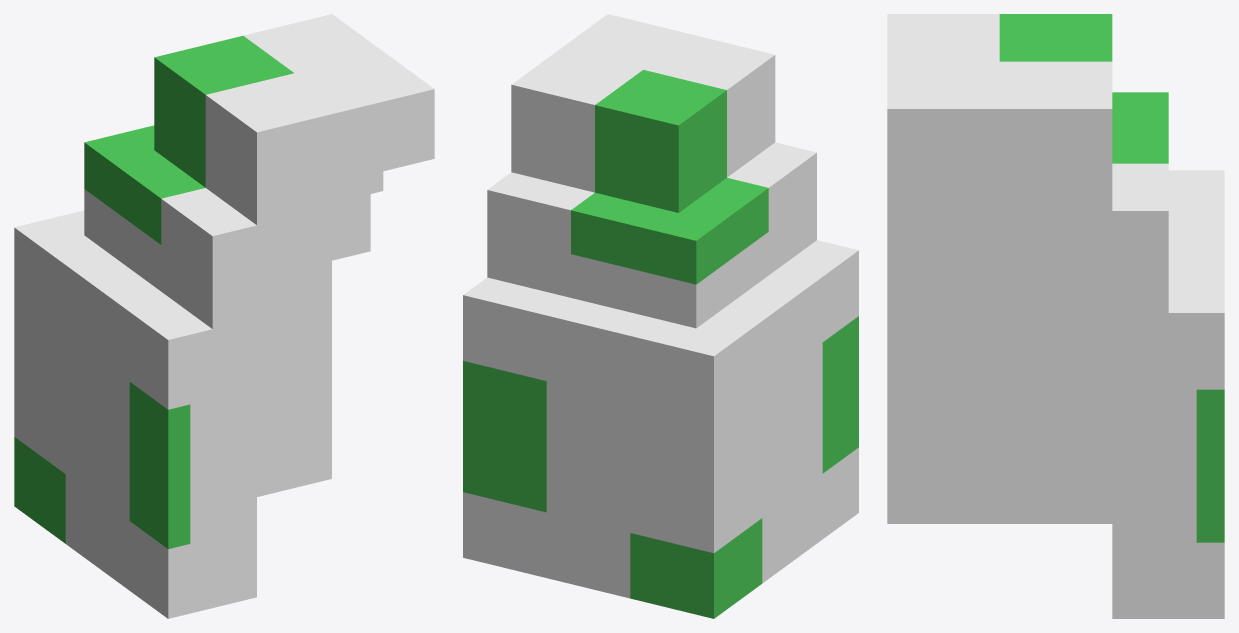
Rendered from eggQ111.obj.
The picture shows the model from 3 angles, left to right: view 1: azimuth 30°, elevation 25°; view 2: azimuth 150°, elevation 25°; view 3: azimuth 270°, elevation 25°; orthographic projection. The views are drawn at different scales.
Size of the model in its own units: 12 by 20 by 12.
1 material, 1 textured.
